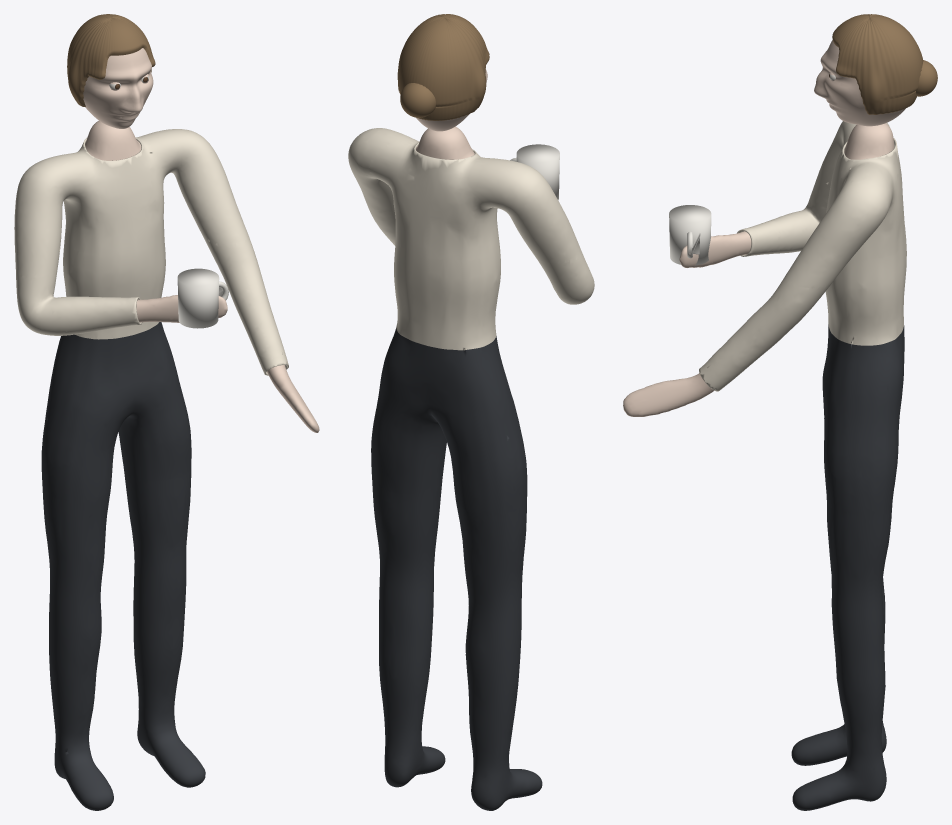
File: Figure_Mom_Standing.fbx
3 renders of one model, left to right at view 1: azimuth 30°, elevation 25°; view 2: azimuth 150°, elevation 25°; view 3: azimuth 270°, elevation 25°, orthographic. The views are drawn at different scales.
Visible parts, largest first — view 1: Clothes, Body, Hair, Head, Prop; view 2: Clothes, Hair, Body, Prop; view 3: Clothes, Hair, Body, Head, Prop.
Boxes of the visible parts, bbox=[...] form: Clothes: bbox=[14, 129, 288, 810]; Body: bbox=[85, 121, 319, 432]; Hair: bbox=[67, 14, 155, 106]; Head: bbox=[83, 48, 153, 128]; Prop: bbox=[177, 268, 228, 328]; Clothes: bbox=[348, 128, 594, 810]; Hair: bbox=[397, 14, 489, 120]; Body: bbox=[415, 126, 474, 159]; Prop: bbox=[510, 144, 559, 199]; Clothes: bbox=[699, 121, 906, 810]; Hair: bbox=[832, 14, 937, 114]; Body: bbox=[623, 123, 894, 416]; Head: bbox=[814, 40, 905, 126]; Prop: bbox=[669, 205, 711, 265].
Size of the model in its own units: 0.5112 by 1.68 by 0.6238.
